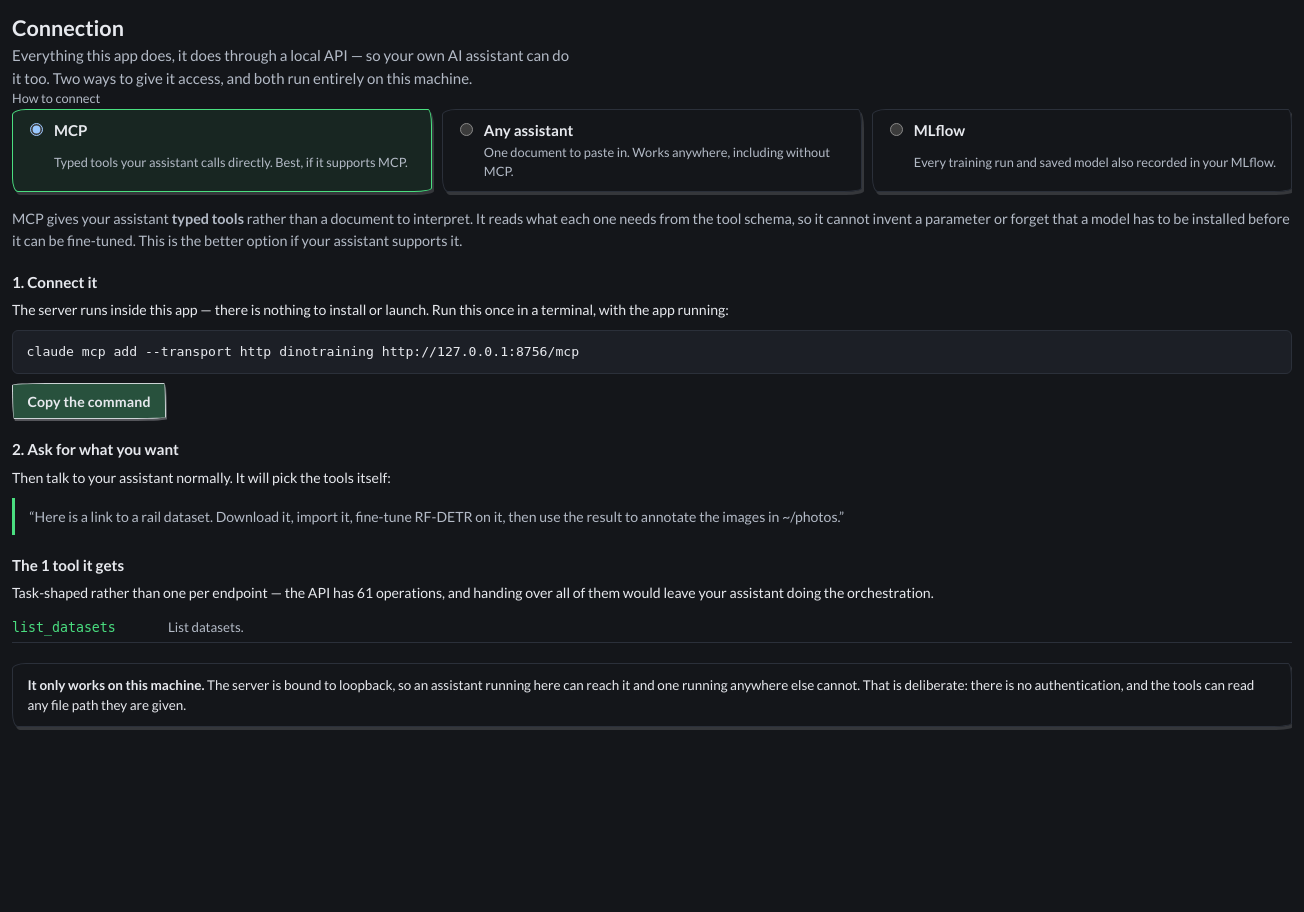
Test: where the document comes from › says so when the backend cannot be reached
Click the radio button labelled "Any assistant": [466, 130] box [460,123,473,136]
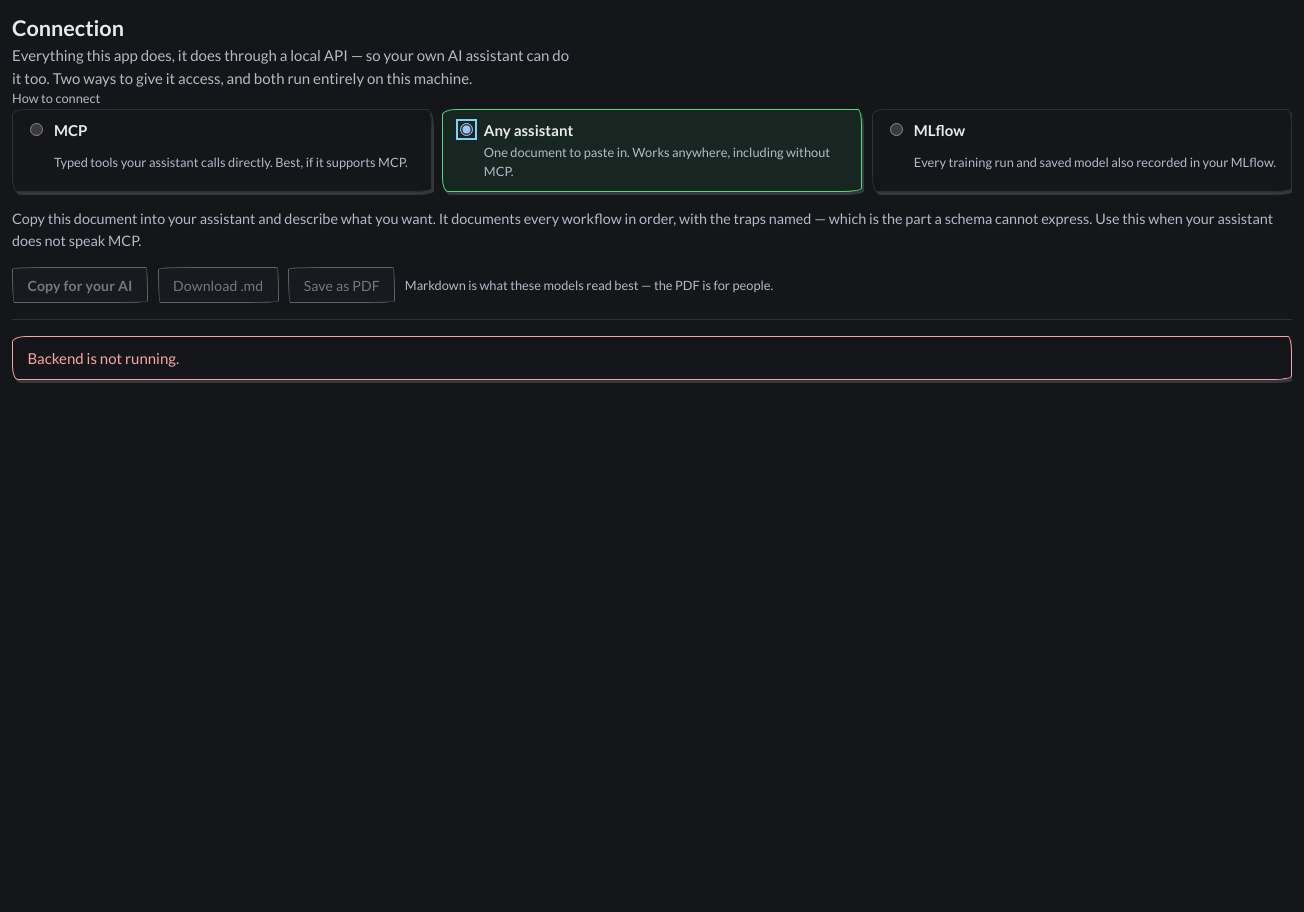
Result: the message shows "not running" at [27,349,179,367]
